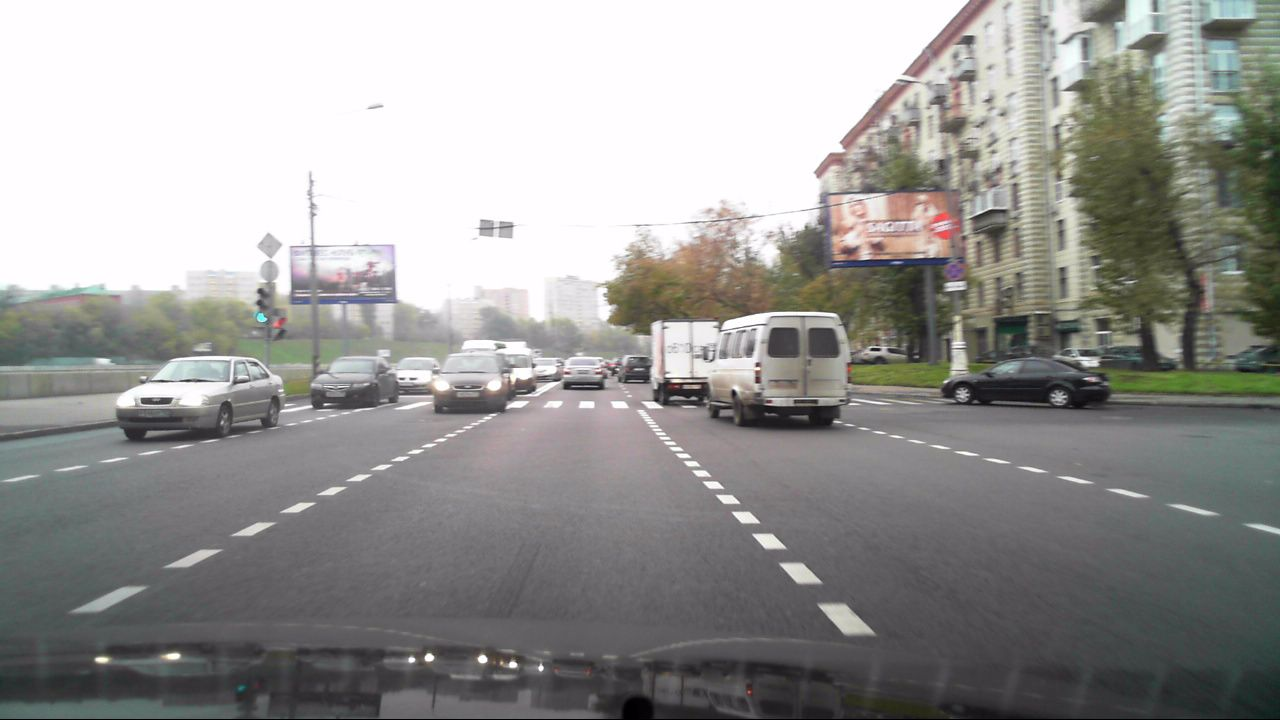No Parking: (943, 259, 966, 279)
